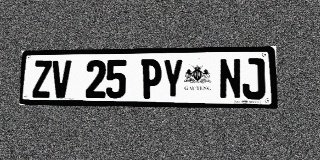2: (86, 60, 106, 98)
5: (106, 60, 126, 98)
J: (242, 58, 265, 99)
N: (219, 58, 242, 99)
P: (141, 59, 162, 99)
V: (51, 60, 71, 98)
Y: (162, 59, 183, 99)
Z: (32, 60, 52, 98)
